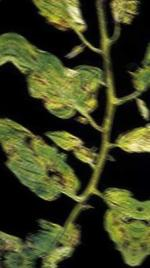Tomato Septoria leaf spot: (2, 23, 114, 130), (0, 109, 87, 210), (90, 186, 143, 268), (119, 6, 150, 106), (14, 0, 93, 37), (0, 221, 41, 264)
